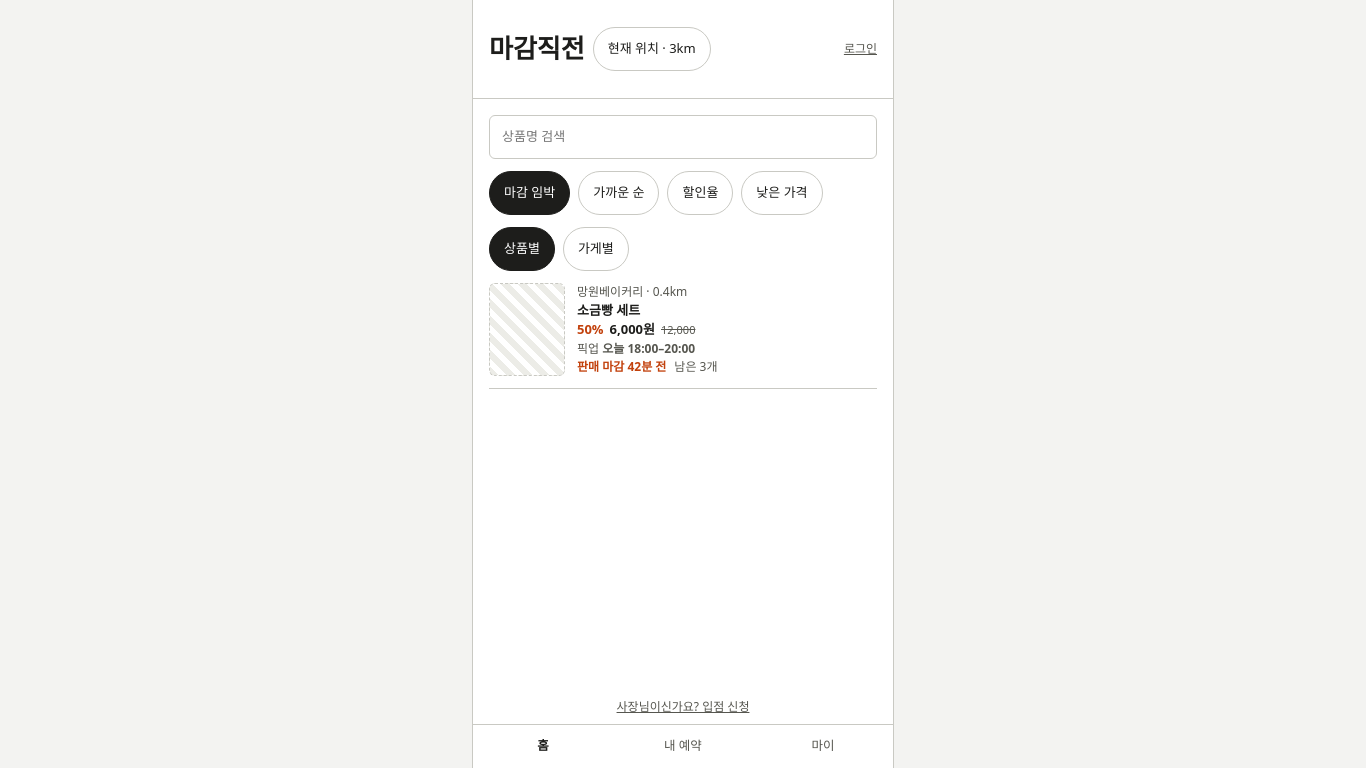
Test: HomePage (C1·C1a) › C1a: 시트가 열려 있어도 .body는 마운트돼 입력한 검색어가 닫은 뒤에도 남는다
This screenshot has width=1366, height=768.
Step 1. Type "빵" into the search field → (683, 137), box [489,115,877,159]
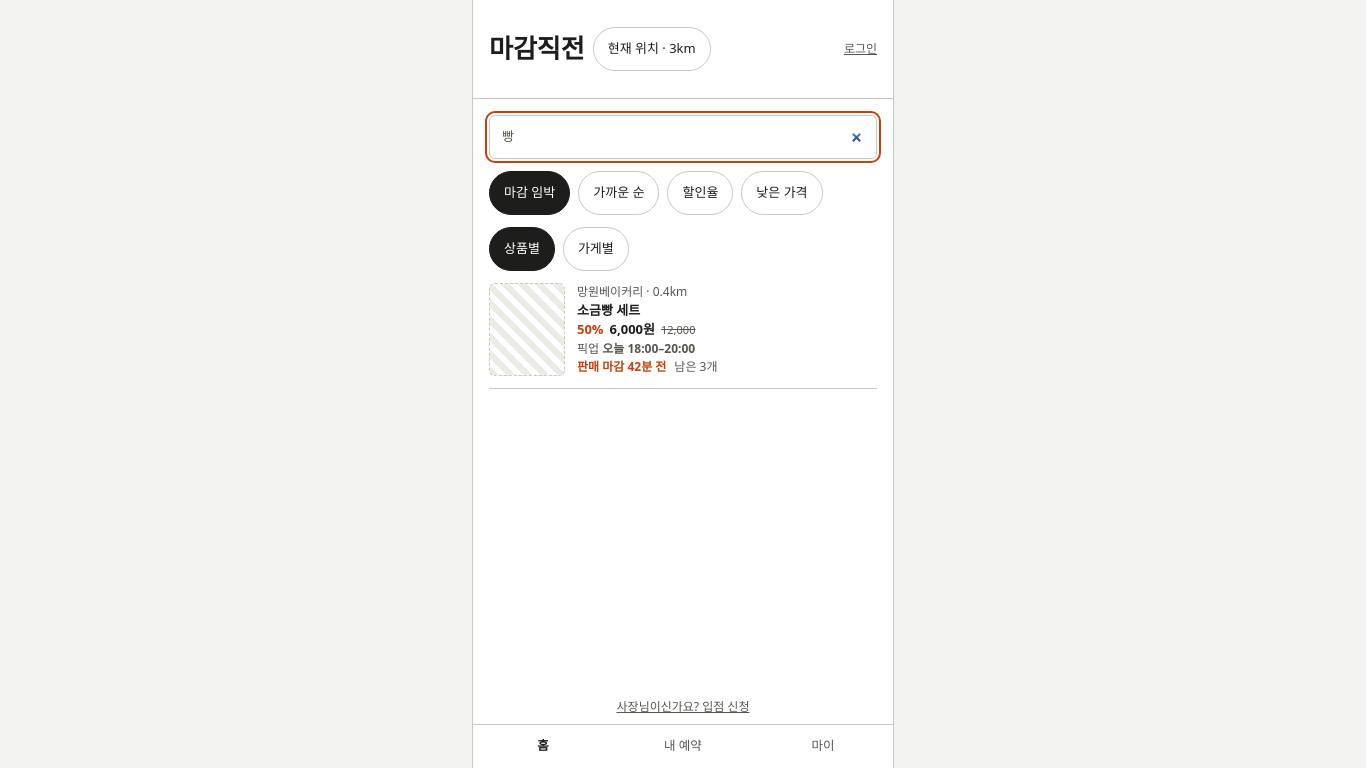
Step 2. Click the button "현재 위치 · 3km" → (652, 49), box [593,27,711,71]
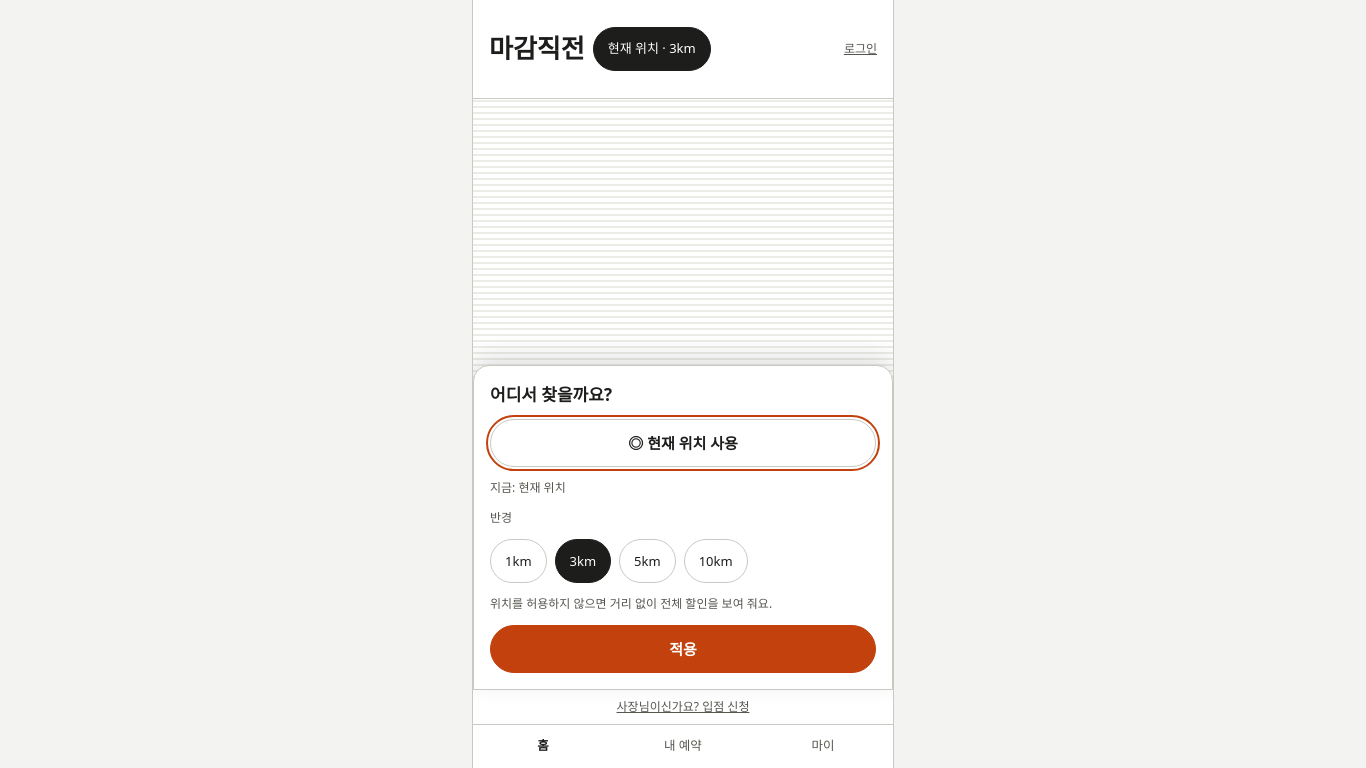
Expected: the dialog "어디서 찾을까요?" is shown, [473,365,893,690]
Step 3. Press Escape
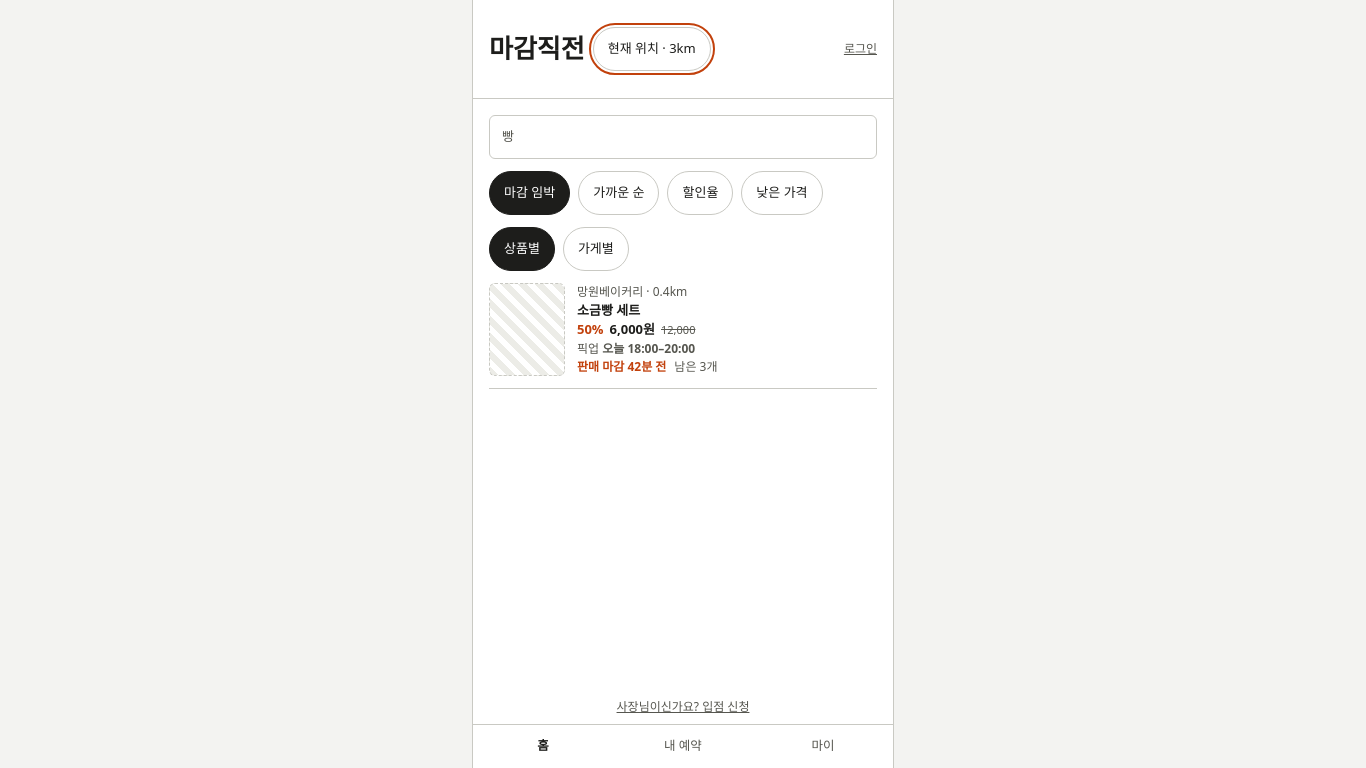
Expected: the dialog is gone
